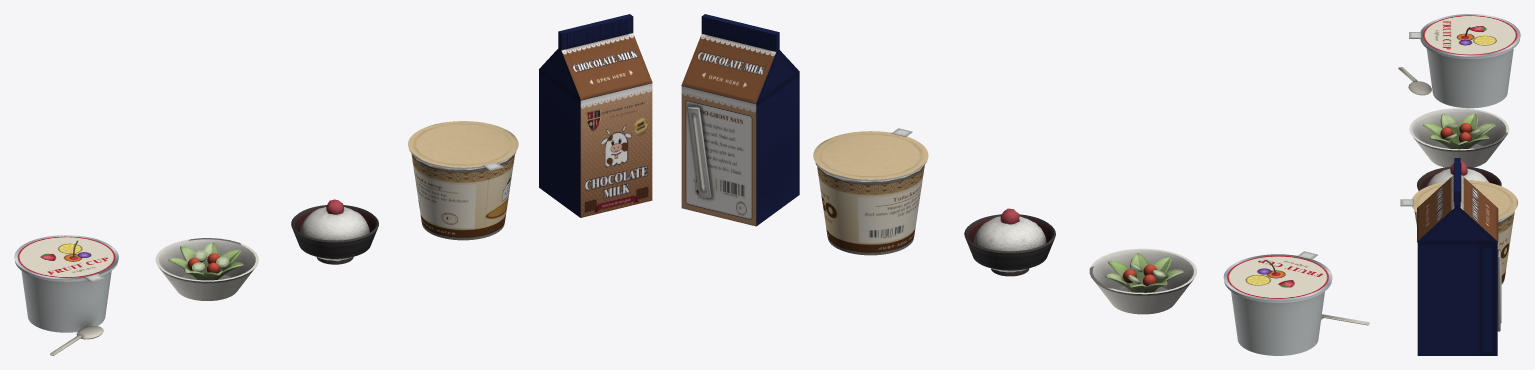
File: ConcessionLunchExtras.fbx
3 views of the same model, side by side, from view 1: azimuth 30°, elevation 25°; view 2: azimuth 150°, elevation 25°; view 3: azimuth 270°, elevation 25° (orthographic). The views are drawn at different scales.
Visible parts, largest first — view 1: ConcessionLunchExtras_ChocolateMilk, ConcessionLunchExtras_MisoSoup, ConcessionLunchExtras_SideSalad, ConcessionLunchExtras_FruitCup_Glass, ConcessionLunchExtras_FruitCup, ConcessionLunchExtras_RiceBowl; view 2: ConcessionLunchExtras_ChocolateMilk, ConcessionLunchExtras_MisoSoup, ConcessionLunchExtras_SideSalad, ConcessionLunchExtras_FruitCup_Glass, ConcessionLunchExtras_RiceBowl, ConcessionLunchExtras_FruitCup; view 3: ConcessionLunchExtras_ChocolateMilk, ConcessionLunchExtras_SideSalad, ConcessionLunchExtras_FruitCup_Glass, ConcessionLunchExtras_FruitCup, ConcessionLunchExtras_MisoSoup, ConcessionLunchExtras_RiceBowl.
Part boxes in pixels (box(x1,y1,x2,y2)): ConcessionLunchExtras_ChocolateMilk: box(539, 14, 652, 217); ConcessionLunchExtras_MisoSoup: box(408, 121, 518, 240); ConcessionLunchExtras_SideSalad: box(155, 238, 258, 300); ConcessionLunchExtras_FruitCup_Glass: box(15, 261, 117, 332); ConcessionLunchExtras_FruitCup: box(14, 235, 118, 355); ConcessionLunchExtras_RiceBowl: box(291, 199, 378, 264); ConcessionLunchExtras_ChocolateMilk: box(681, 14, 799, 226); ConcessionLunchExtras_MisoSoup: box(813, 128, 928, 255); ConcessionLunchExtras_SideSalad: box(1089, 248, 1196, 314); ConcessionLunchExtras_FruitCup_Glass: box(1224, 281, 1331, 355); ConcessionLunchExtras_RiceBowl: box(964, 208, 1055, 276); ConcessionLunchExtras_FruitCup: box(1223, 251, 1369, 325); ConcessionLunchExtras_ChocolateMilk: box(1417, 158, 1501, 355); ConcessionLunchExtras_SideSalad: box(1409, 108, 1509, 167); ConcessionLunchExtras_FruitCup_Glass: box(1420, 39, 1519, 108); ConcessionLunchExtras_FruitCup: box(1398, 14, 1520, 95); ConcessionLunchExtras_MisoSoup: box(1400, 180, 1517, 284); ConcessionLunchExtras_RiceBowl: box(1417, 161, 1501, 190).
Size of the model in its own units: 273 by 72.5 by 48.99.
